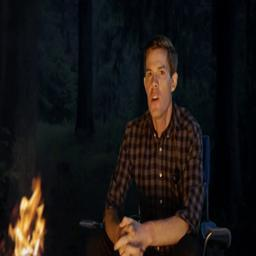fire: (8, 177, 47, 256)
